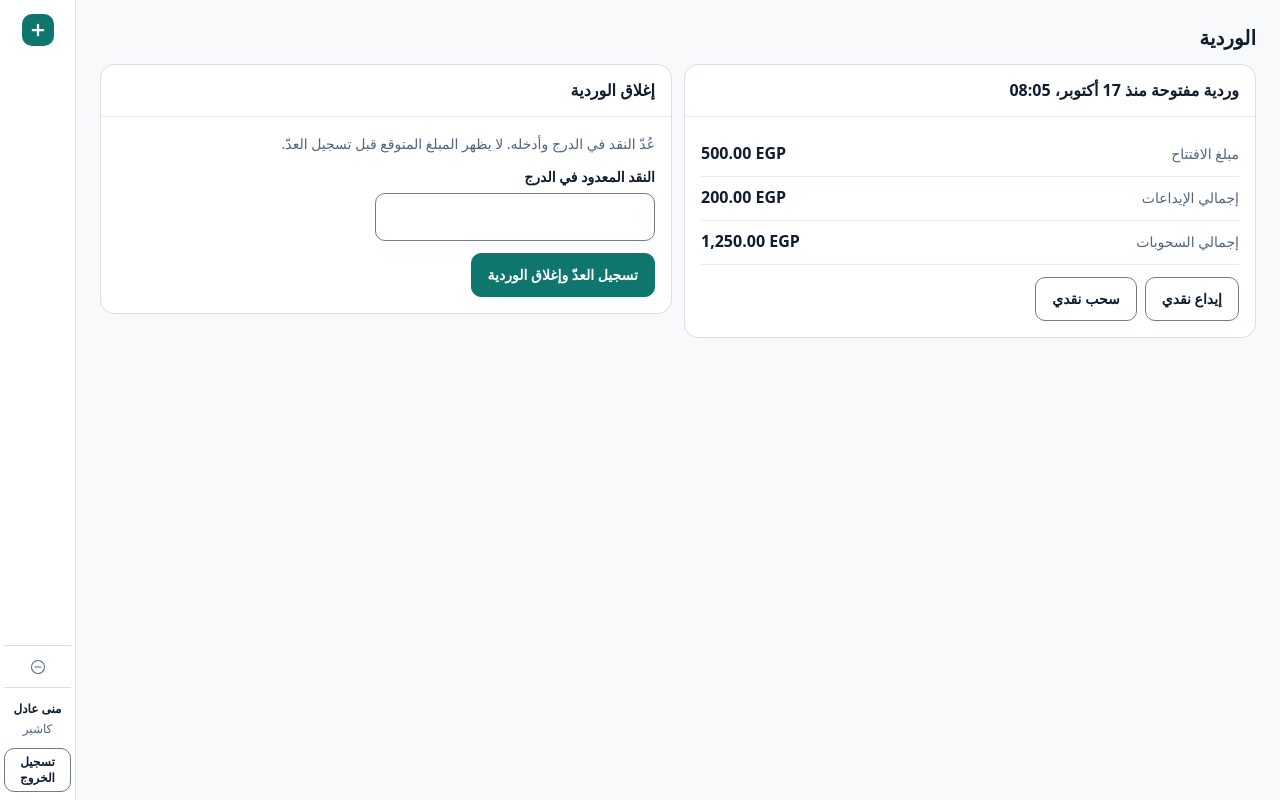
Test: ShiftProof › refuses the close for parked sales on ParkedBlocked
The image size is (1280, 800).
Type "2450" into the field labelled "النقد المعدود في الدرج" at (515, 216), box x1=375 y1=192 x2=655 y2=240
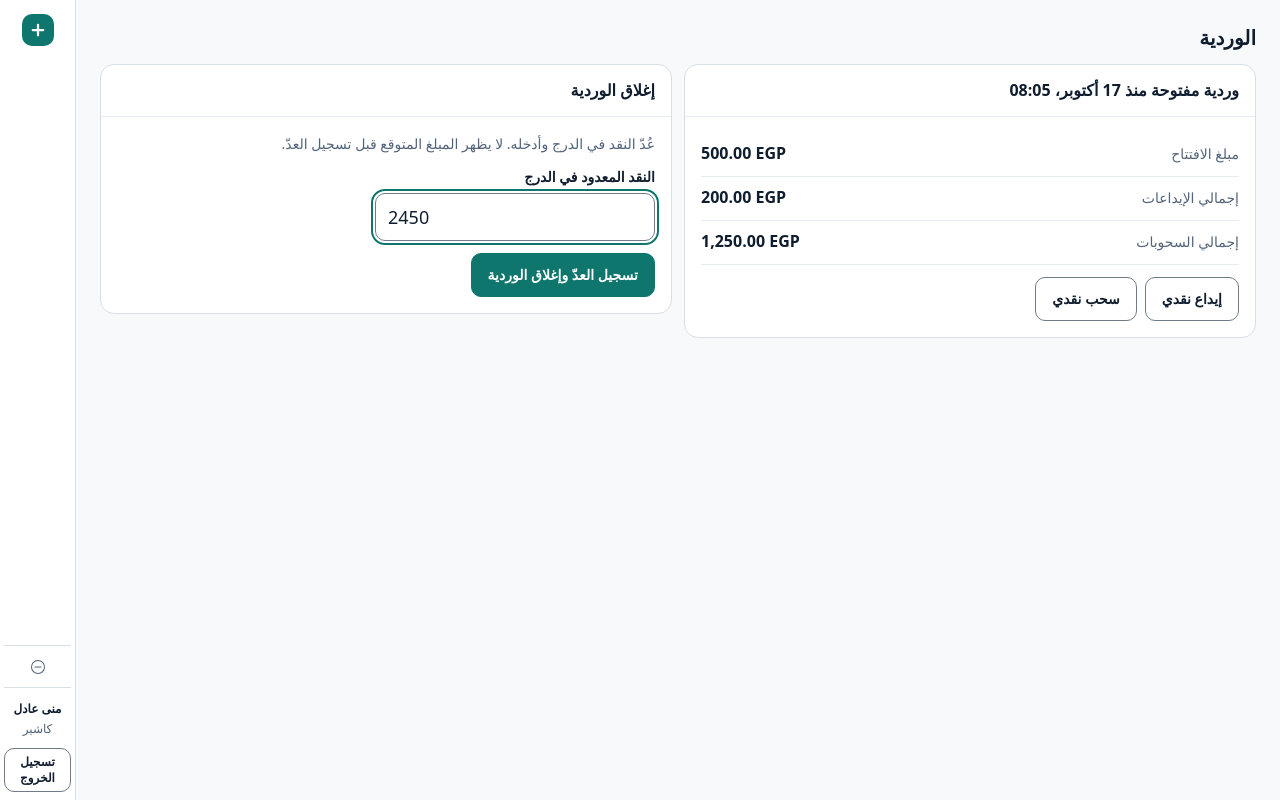
Click the button "تسجيل العدّ وإغلاق الوردية" at (563, 274), box x1=471 y1=252 x2=655 y2=296
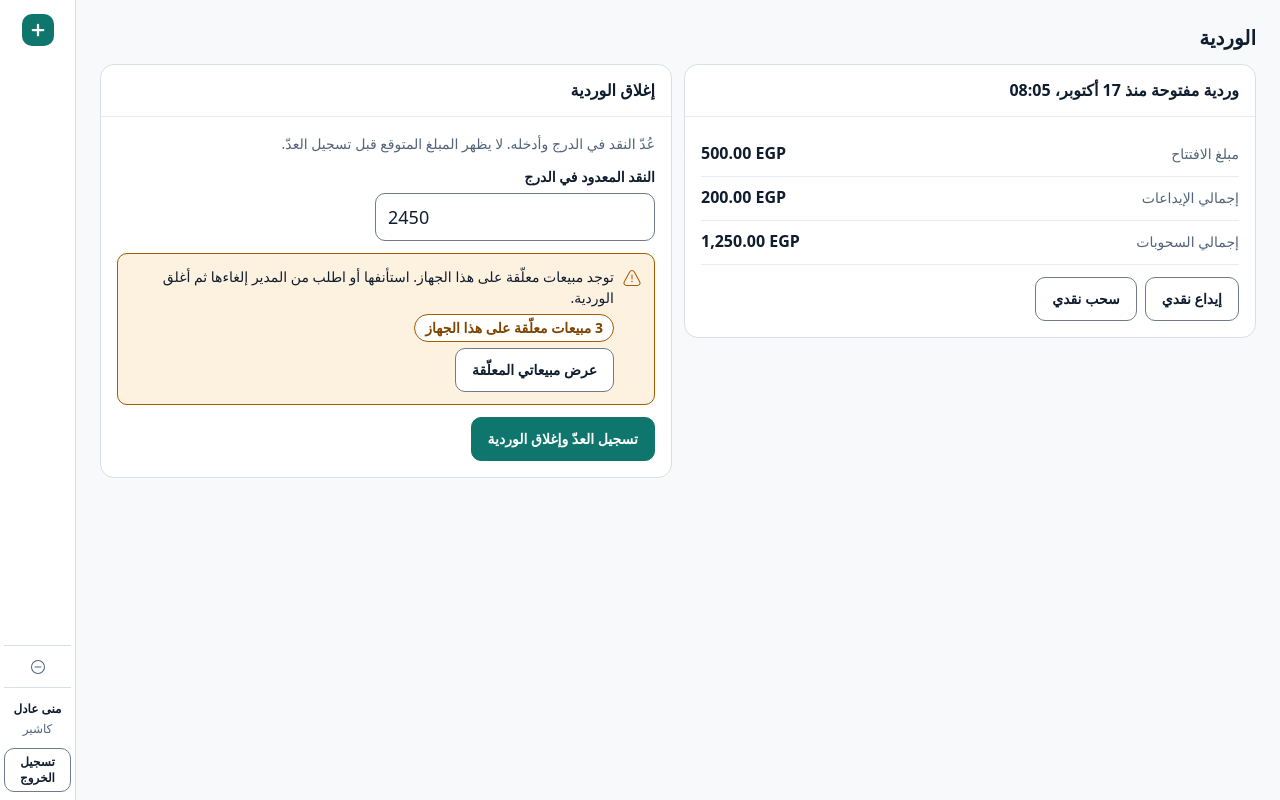
Now the message with test id "shift-parked-block" is shown, box x1=117 y1=252 x2=655 y2=404
